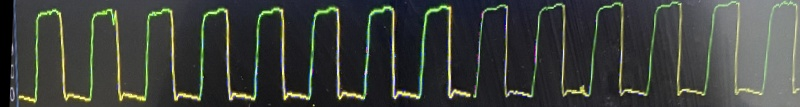normal_pressure: (1, 0, 798, 107)
